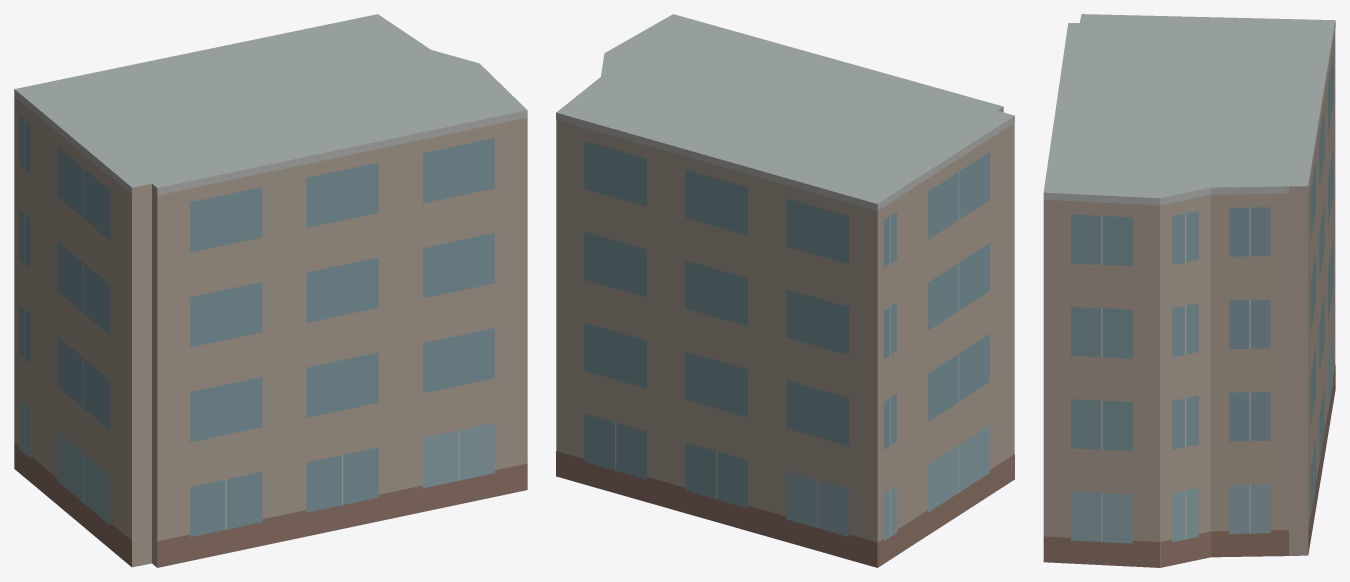
The model's file is survey-upis-33012726.glb.
The picture shows the model from 3 angles, left to right: view 1: azimuth 30°, elevation 25°; view 2: azimuth 150°, elevation 25°; view 3: azimuth 270°, elevation 25°; orthographic projection. The views are drawn at different scales.
Parts seen in each view (by area): view 1: survey-upis-33012726.tmp; view 2: survey-upis-33012726.tmp; view 3: survey-upis-33012726.tmp.
Boxes of the visible parts, x1=… form: survey-upis-33012726.tmp: x1=14, y1=14, x2=527, y2=567; survey-upis-33012726.tmp: x1=556, y1=14, x2=1014, y2=567; survey-upis-33012726.tmp: x1=1043, y1=14, x2=1335, y2=567.
Bounding box in the file's own units: 13.48 × 12.6 × 9.03.
